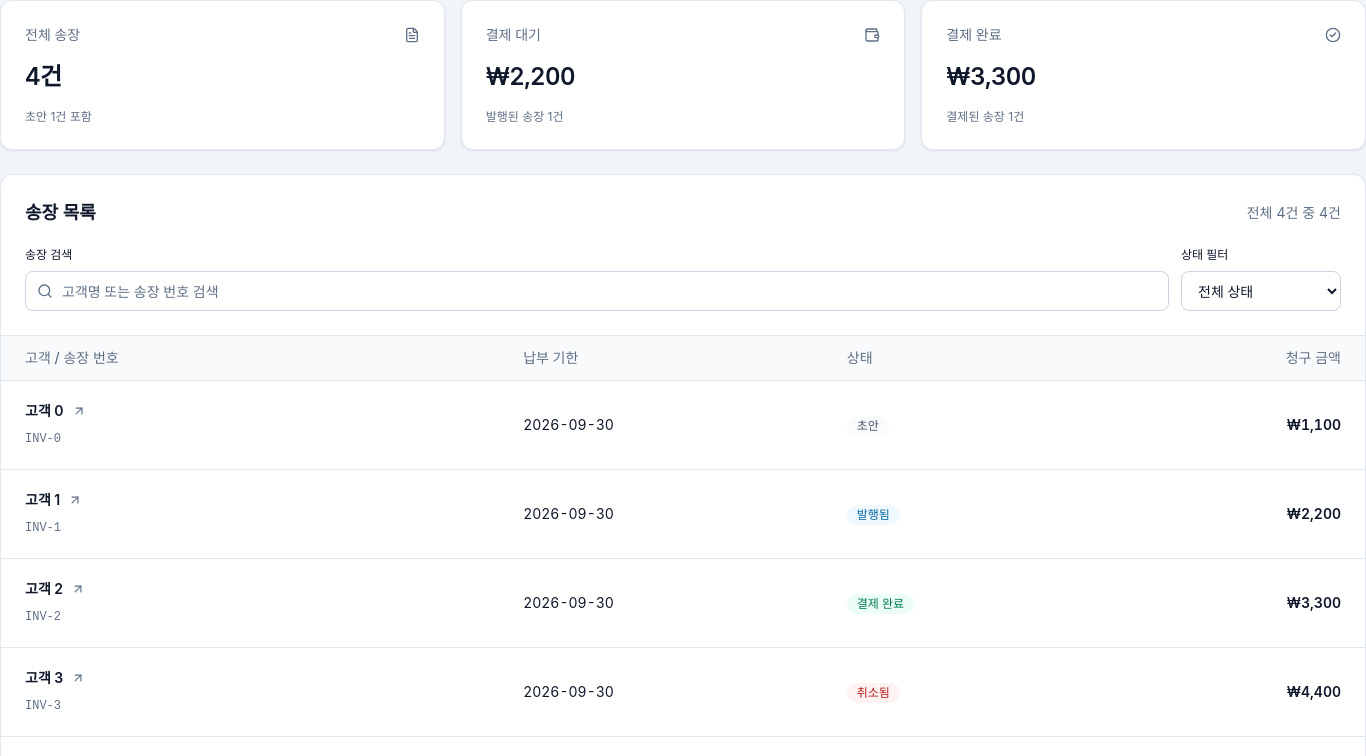
Test: summarizes issued and paid amounts separately and combines search with status
Expected: the text "₩2,200" is shown, [486,62,575,91]
Expected: the text "₩3,300" is shown, [946,62,1036,91]
Type "inv-1" into the search field labelled "송장 검색" at [597, 291], box [25,271,1169,311]
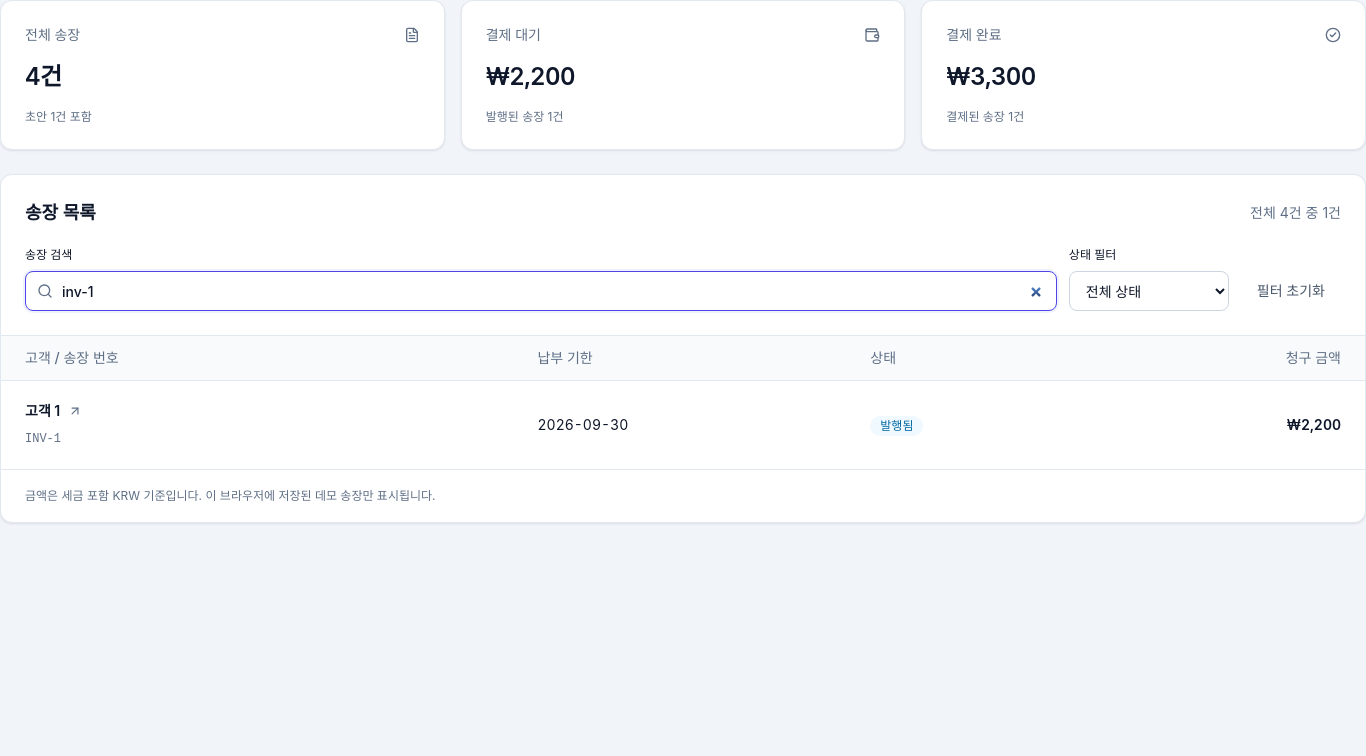
Result: the message reads "전체 4건 중 1건" at [1250,203,1341,223]
Select "결제 완료" in the dropdown labelled "상태 필터" at [1149, 291], box [1069,271,1229,311]
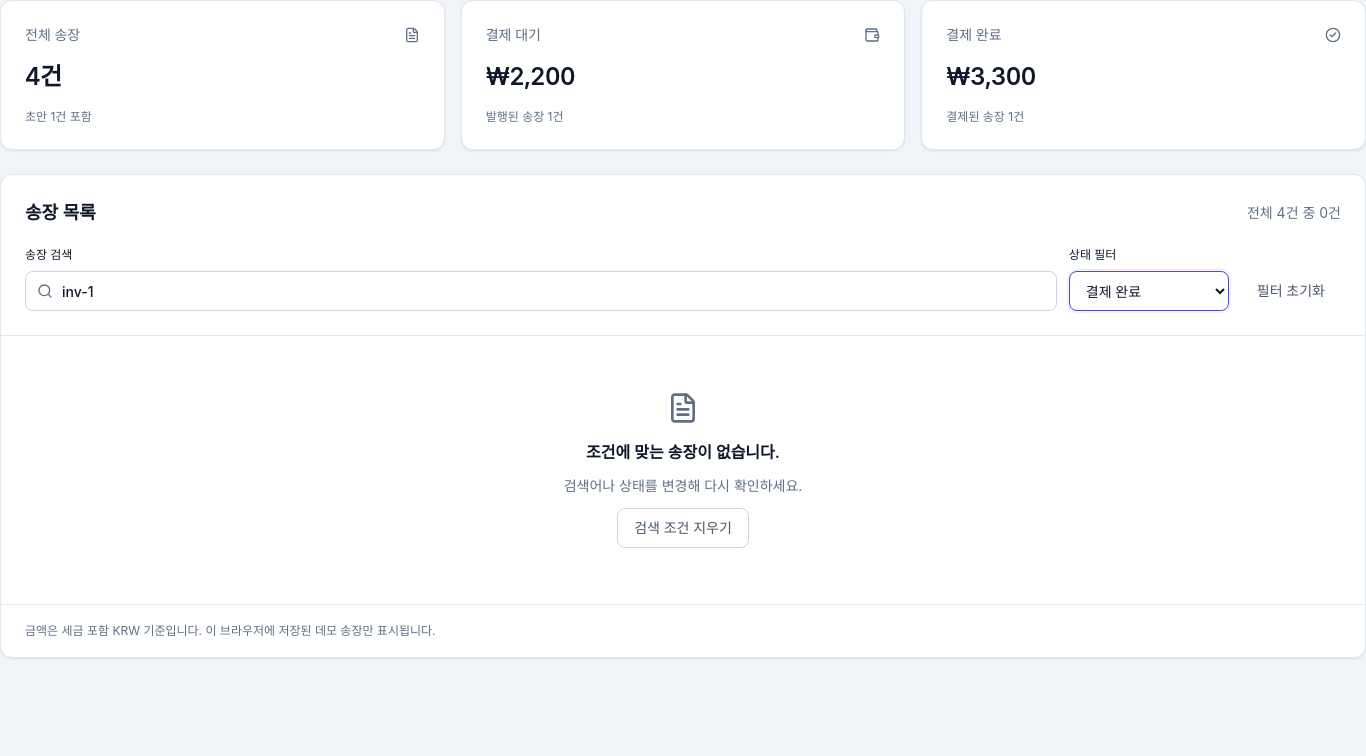
Result: the heading "조건에 맞는 송장이 없습니다." is shown at [586,440,780,464]
Click the button "필터 초기화" at [1291, 291], box [1241,271,1341,311]
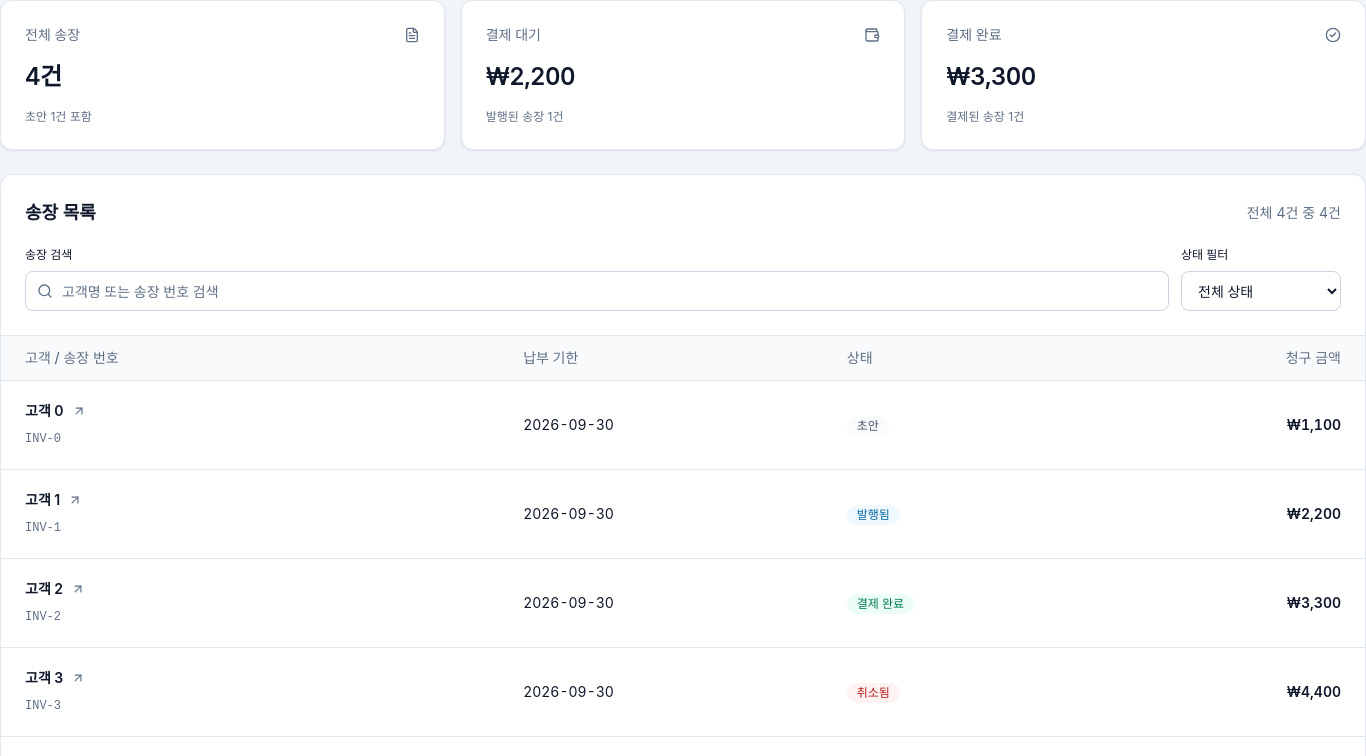
Result: the message reads "전체 4건 중 4건" at [1247,203,1341,223]
